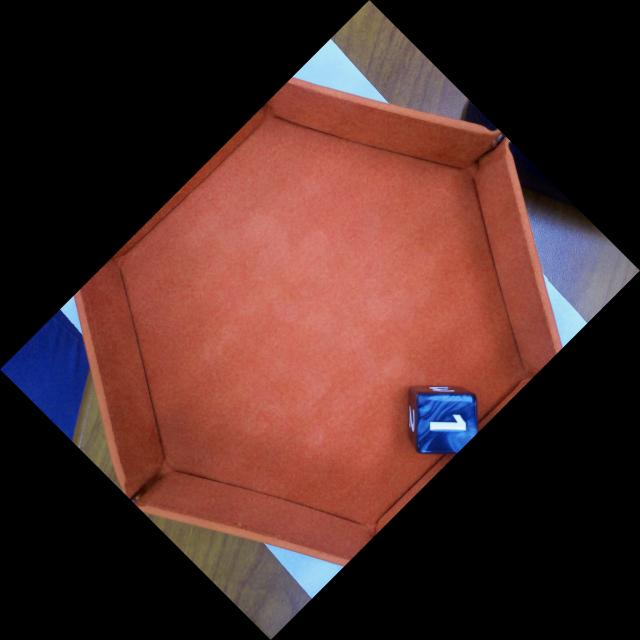dice: (425, 398, 478, 454)
